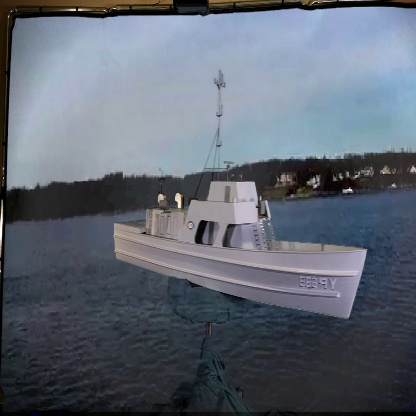YP689: (112, 71, 369, 322)
